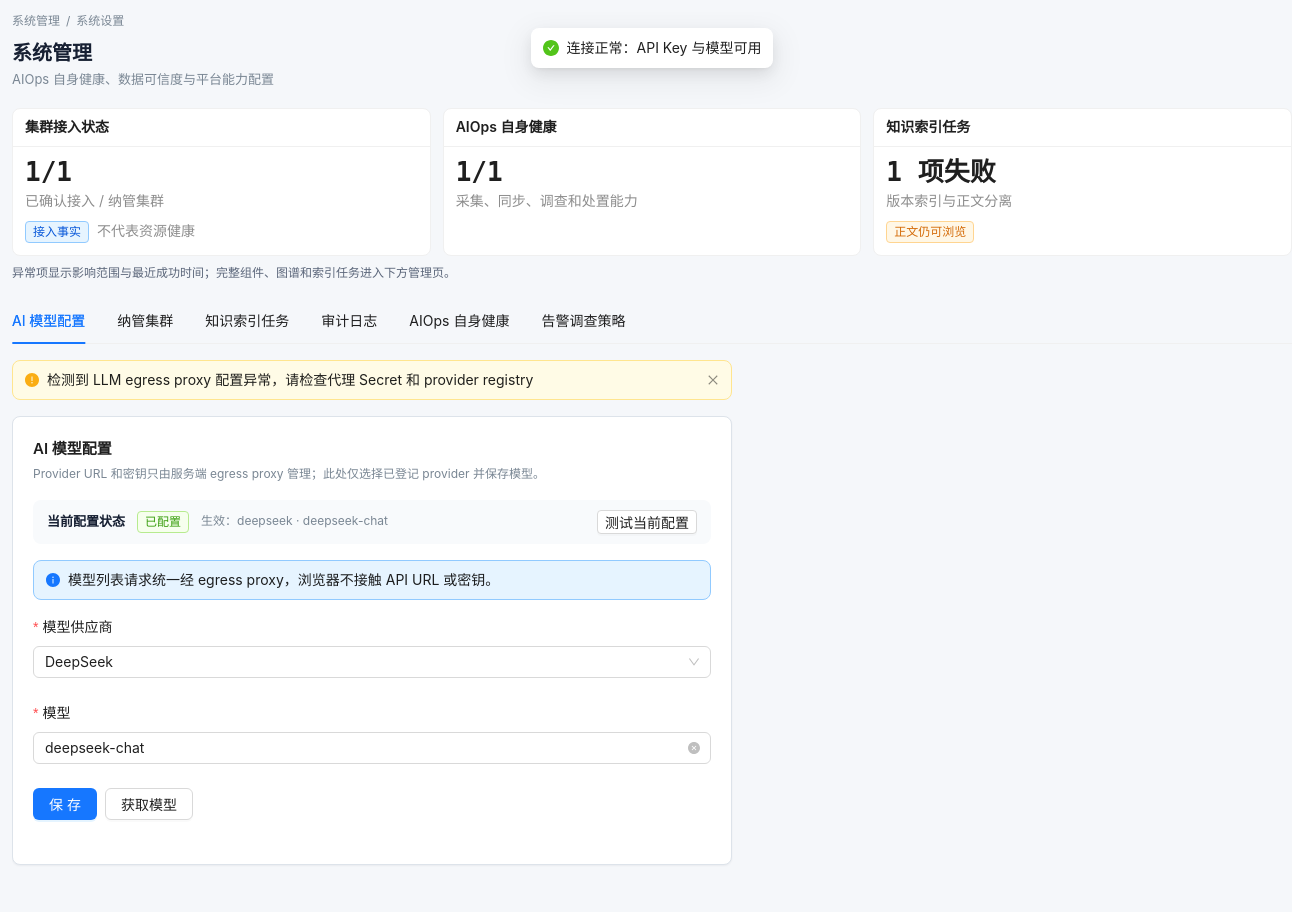
Test: AdminSettings LLM configuration › does not save or report success when the connection endpoint returns success false
Expected: the text "deepseek-chat" is shown, [45,738,144,756]
Click the button "测试当前配置" at [647, 522], box [597,510,697,534]
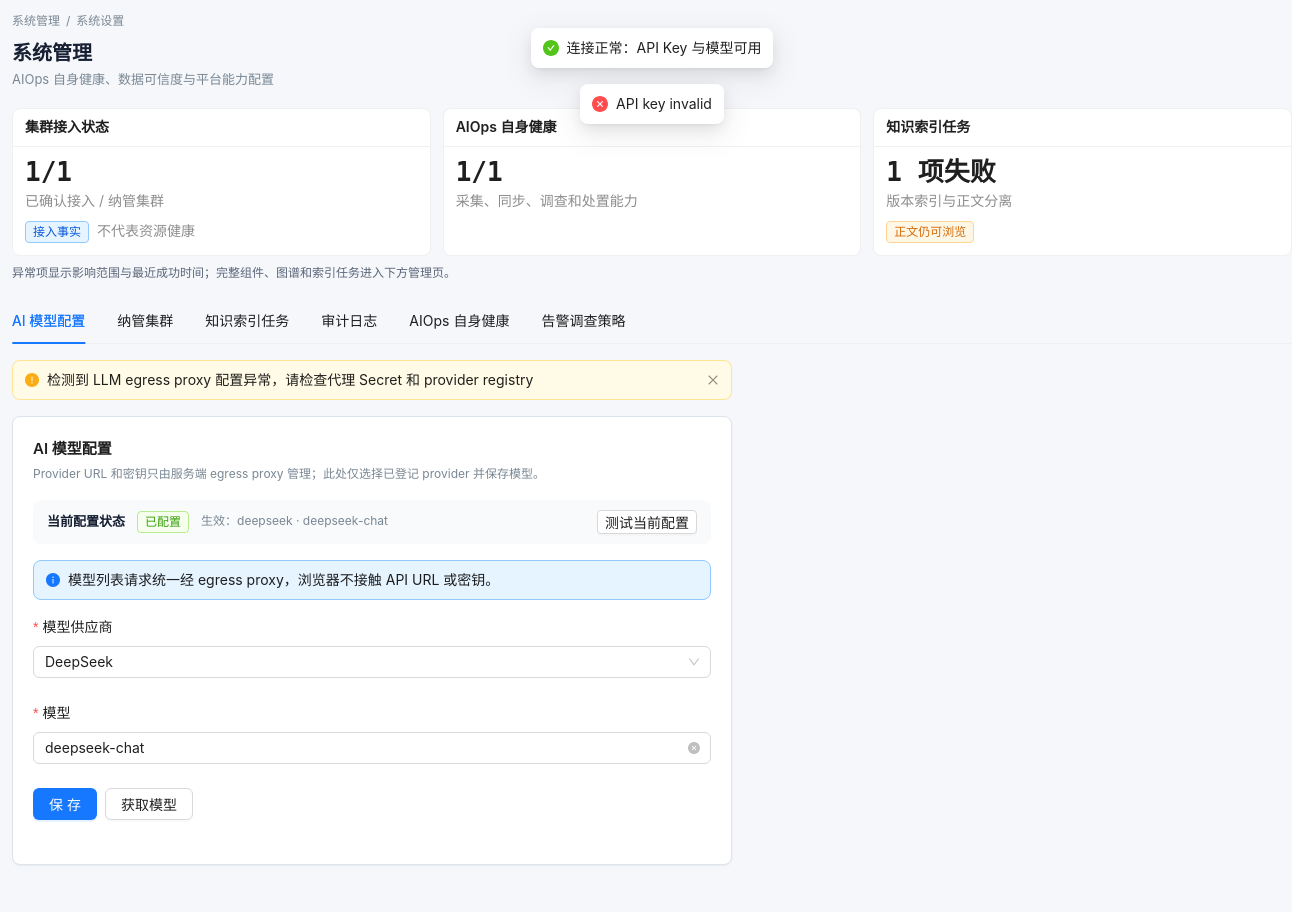
Expected: the text "API key invalid" is shown, [616,93,712,115]
